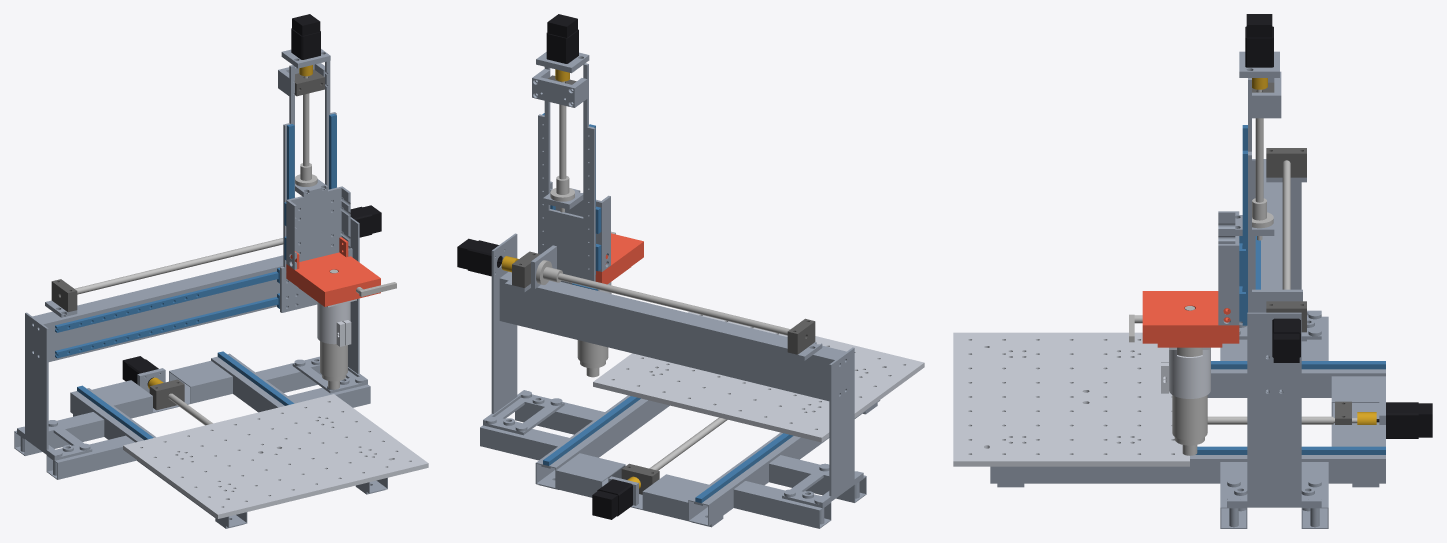
File: light_max.glb
The picture shows the model from 3 angles, left to right: view 1: azimuth 30°, elevation 25°; view 2: azimuth 150°, elevation 25°; view 3: azimuth 270°, elevation 25°; orthographic projection. The views are drawn at different scales.
Visible parts, largest first — view 1: table, beam, frame_cross_rear, z_slide, upright_L, frame_cross_end, tooldock_master, x_carriage, upright_R, x_rail_bot, x_rail_top, frame_longeron_L (+15 smaller); view 2: beam, table, frame_cross_rear, x_carriage, upright_R, upright_L, frame_cross_end, frame_longeron_R, frame_longeron_L, x_screw, z_motor, z_bk_bridge (+13 smaller); view 3: table, upright_R, frame_longeron_R, tooldock_master, frame_cross_rear, frame_cross_end, frame_longeron_L, z_slide, upright_L, head_mount, beam, head_spindle (+15 smaller).
Boxes of the visible parts, x1=… form: table: x1=123, y1=394, x2=428, y2=518; beam: x1=32, y1=248, x2=352, y2=361; frame_cross_rear: x1=14, y1=356, x2=370, y2=479; z_slide: x1=286, y1=186, x2=350, y2=269; upright_L: x1=17, y1=312, x2=92, y2=460; frame_cross_end: x1=92, y1=360, x2=232, y2=418; tooldock_master: x1=286, y1=237, x2=380, y2=306; x_carriage: x1=280, y1=61, x2=336, y2=312; upright_R: x1=292, y1=217, x2=367, y2=393; x_rail_bot: x1=55, y1=297, x2=278, y2=358; x_rail_top: x1=55, y1=271, x2=278, y2=332; frame_longeron_L: x1=70, y1=388, x2=247, y2=528; beam: x1=499, y1=271, x2=846, y2=401; table: x1=593, y1=311, x2=924, y2=442; frame_cross_rear: x1=480, y1=394, x2=866, y2=528; x_carriage: x1=538, y1=63, x2=599, y2=290; upright_R: x1=483, y1=233, x2=564, y2=435; upright_L: x1=782, y1=347, x2=863, y2=507; frame_cross_end: x1=556, y1=453, x2=708, y2=520; frame_longeron_R: x1=535, y1=395, x2=669, y2=489; frame_longeron_L: x1=688, y1=400, x2=880, y2=527; x_screw: x1=558, y1=273, x2=790, y2=335; z_motor: x1=546, y1=14, x2=578, y2=63; z_bk_bridge: x1=532, y1=69, x2=587, y2=107; table: x1=953, y1=332, x2=1189, y2=466; upright_R: x1=1227, y1=312, x2=1321, y2=507; frame_longeron_R: x1=990, y1=455, x2=1385, y2=487; tooldock_master: x1=1142, y1=291, x2=1239, y2=343; frame_cross_rear: x1=1220, y1=316, x2=1328, y2=528; frame_cross_end: x1=1331, y1=376, x2=1385, y2=446; frame_longeron_L: x1=1207, y1=369, x2=1385, y2=397; z_slide: x1=1218, y1=211, x2=1239, y2=325; upright_L: x1=1239, y1=159, x2=1321, y2=339; head_mount: x1=1161, y1=347, x2=1210, y2=398; beam: x1=1261, y1=160, x2=1283, y2=392; head_spindle: x1=1172, y1=347, x2=1207, y2=455.
Bounding box in the file's own units: 737 × 789 × 709.
